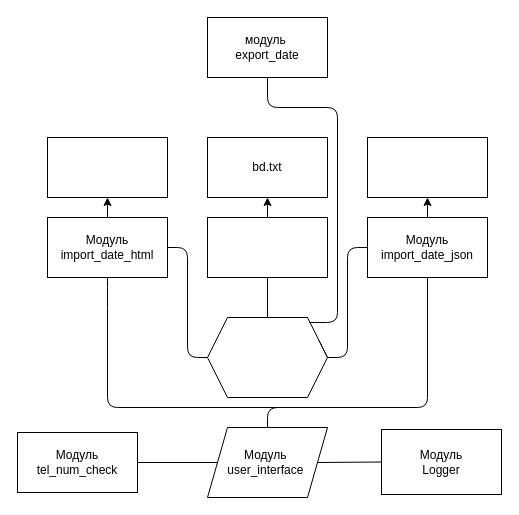
Some shapes in this 519 by 515 pixel diagram are drawn without their labels. The shapes that lost their labels are listed below. From the top down, each one's centre as x and y in pixels, then its label:
At (107,167): "bd.html".
At (427,167): "bd.json".
At (267,247): "Модуль import_date_txt".
At (267,357): "модуль main".
